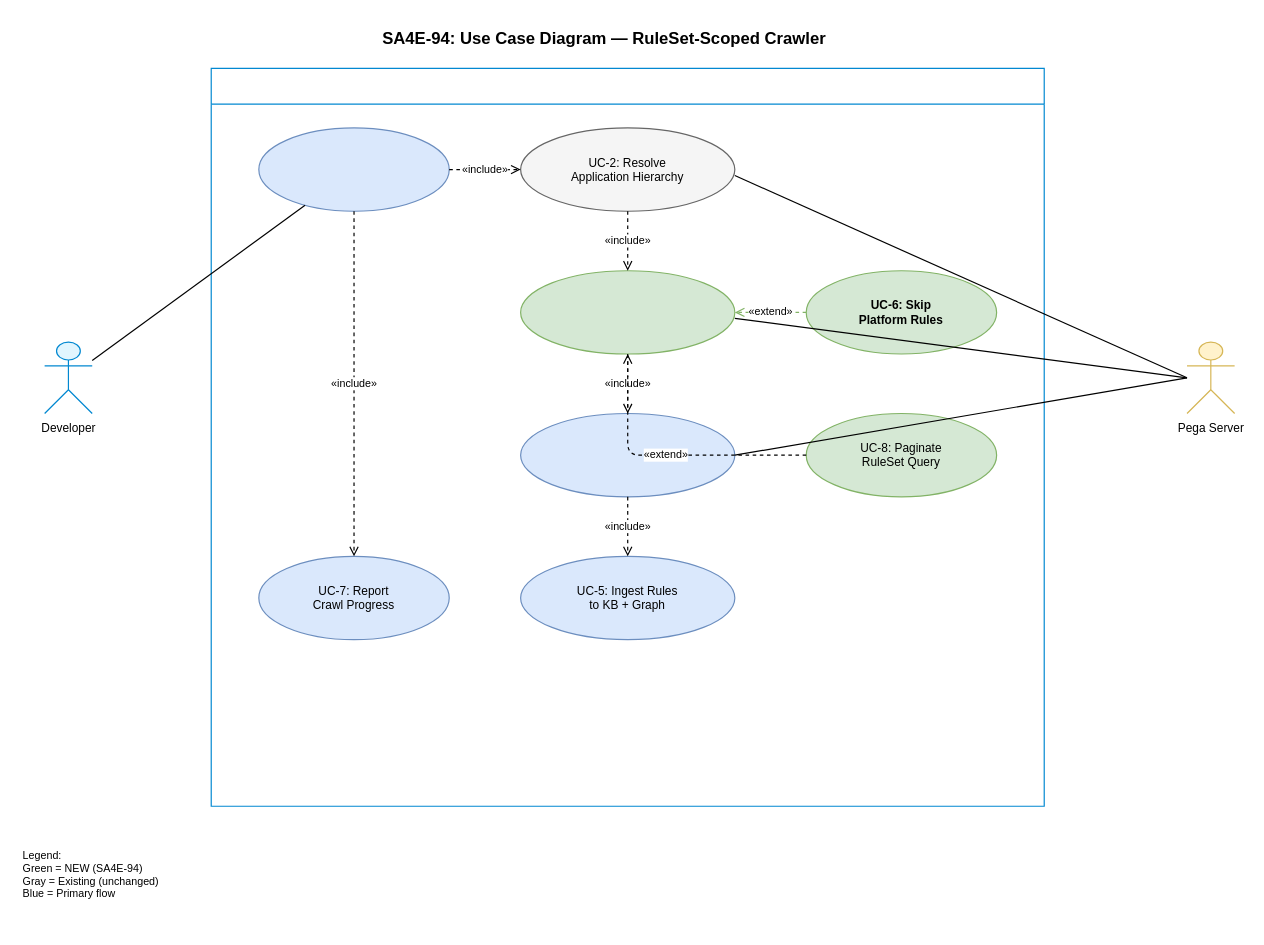
The diagram is 1264 pixels wide and 945 high, and some of its shapes have lost their labels. Here are the shapes that lost their labels. From the top down, the box of each, then its label:
(258, 127, 449, 211): UC-1: Trigger Pega Indexing
(519, 270, 735, 354): UC-3: Enumerate Rules by RuleSet (NEW)
(210, 67, 1044, 806): Pega Crawler (VS Code Extension)
(519, 412, 735, 497): UC-4: Fetch Rule Content
